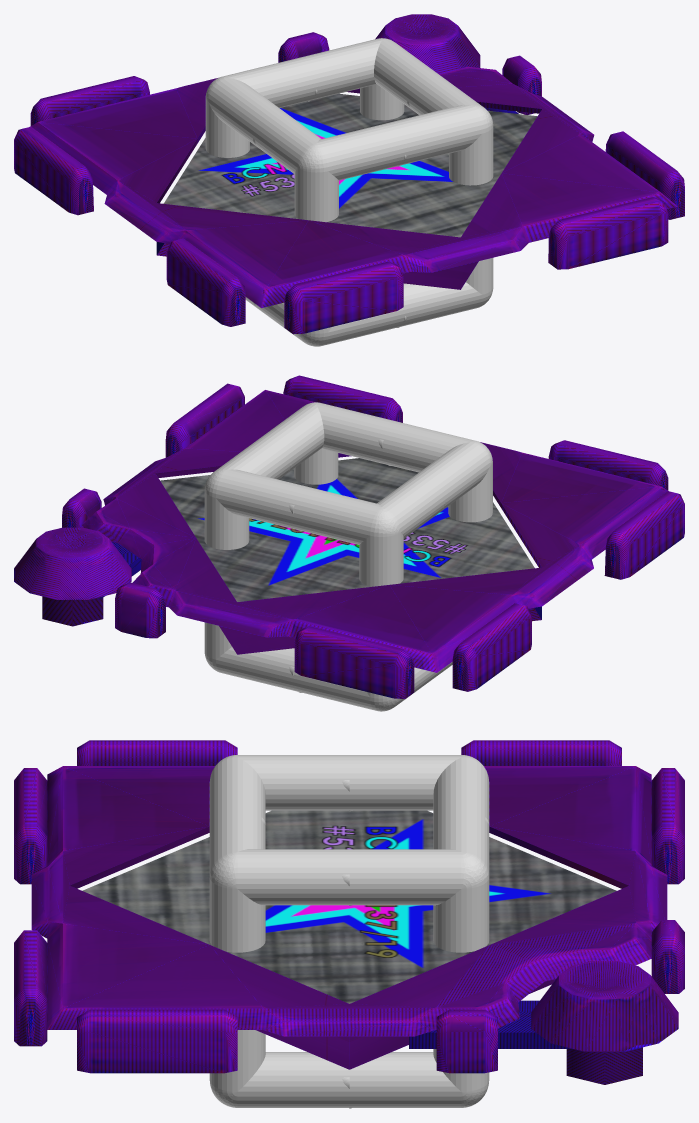
File: CubicWireModel.fbx
3 views of the same model, one above another, from view 1: azimuth 30°, elevation 25°; view 2: azimuth 150°, elevation 25°; view 3: azimuth 270°, elevation 25° (orthographic). The views are drawn at different scales.
Visible parts, largest first — view 1: Component_PuzzleBackground, Highlight.018, Hatch.003, Hatch.004, Highlight.017, Highlight.021, Hatch.001, Highlight.022, Highlight.020, Hatch.002, Highlight.015, Highlight.016 (+3 smaller); view 2: Component_PuzzleBackground, Highlight.017, Hatch.002, Hatch.001, Highlight.018, Highlight.021, Highlight.022, Hatch.004, Highlight.019, Hatch.003, Highlight.013, Highlight.014 (+3 smaller); view 3: Component_PuzzleBackground, Highlight.022, Hatch.002, Hatch.003, Highlight.024, Highlight.021, Hatch.001, Hatch.004, Highlight.016, Highlight.018, Highlight.017, Highlight.014.
Boxes of the visible parts, <box> form: Component_PuzzleBackground: <box>14,14,684,334</box>; Highlight.018: <box>308,105,492,180</box>; Hatch.003: <box>366,116,537,237</box>; Hatch.004: <box>175,174,449,236</box>; Highlight.017: <box>222,38,391,107</box>; Highlight.021: <box>206,76,327,173</box>; Hatch.001: <box>163,138,294,204</box>; Highlight.022: <box>374,38,482,115</box>; Highlight.020: <box>316,282,492,345</box>; Hatch.002: <box>280,93,537,138</box>; Highlight.015: <box>294,146,338,346</box>; Highlight.016: <box>449,106,493,305</box>; Component_PuzzleBackground: <box>14,375,684,698</box>; Highlight.017: <box>205,469,397,544</box>; Hatch.002: <box>160,481,332,601</box>; Hatch.001: <box>248,538,523,600</box>; Highlight.018: <box>306,402,478,472</box>; Highlight.021: <box>372,441,492,538</box>; Highlight.022: <box>205,404,324,497</box>; Hatch.004: <box>403,502,534,569</box>; Highlight.019: <box>206,647,374,710</box>; Hatch.003: <box>160,458,418,503</box>; Highlight.013: <box>359,510,403,711</box>; Highlight.014: <box>204,470,249,670</box>; Component_PuzzleBackground: <box>14,740,684,1084</box>; Highlight.022: <box>237,849,488,905</box>; Hatch.002: <box>349,893,609,1003</box>; Hatch.003: <box>89,893,349,1003</box>; Highlight.024: <box>237,1052,488,1107</box>; Highlight.021: <box>211,755,487,810</box>; Hatch.001: <box>349,810,616,893</box>; Hatch.004: <box>82,810,349,893</box>; Highlight.016: <box>209,854,265,1107</box>; Highlight.018: <box>209,757,265,884</box>; Highlight.017: <box>433,756,489,884</box>; Highlight.014: <box>433,854,489,1107</box>.
Size of the model in its own units: 12000 by 5000 by 12000.
2 materials, 2 textured.
